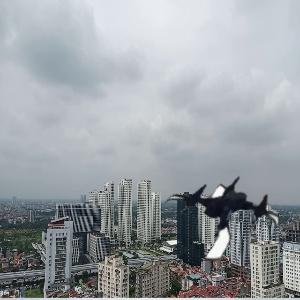drone: (169, 160, 279, 270)
